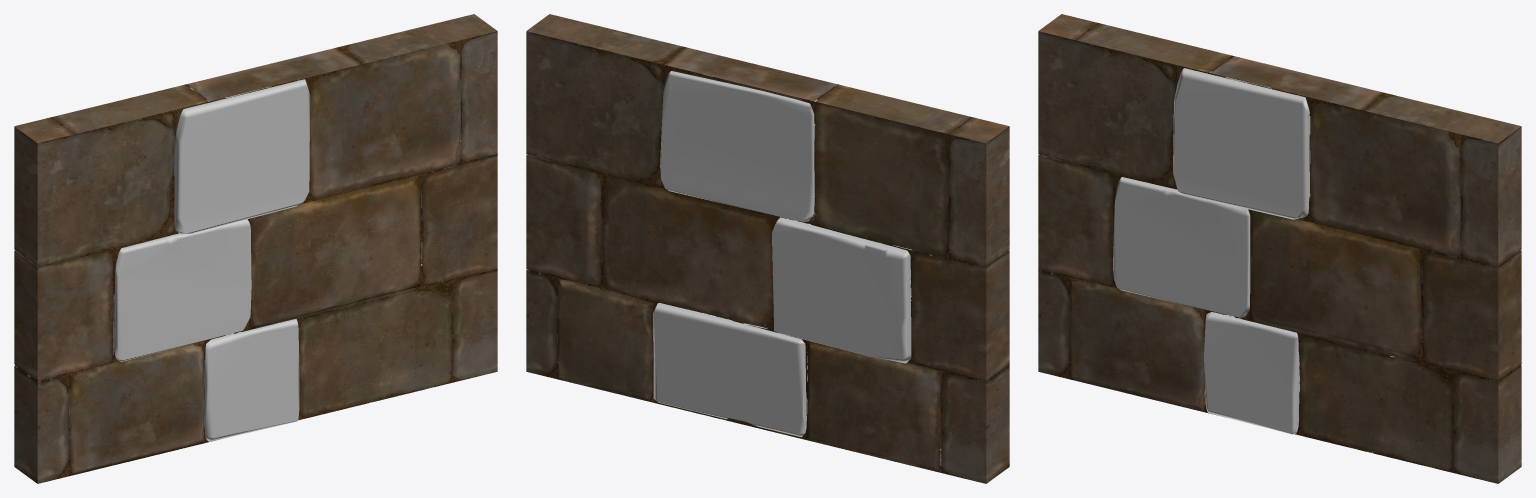
The picture shows the model from 3 angles, left to right: view 1: azimuth 30°, elevation 25°; view 2: azimuth 150°, elevation 25°; view 3: azimuth 330°, elevation 25°; orthographic projection.
Parts seen in each view (by area): view 1: SM_Vault_Corner_Wall_01_LOD0; view 2: SM_Vault_Corner_Wall_01_LOD0; view 3: SM_Vault_Corner_Wall_01_LOD0.
Boxes of the visible parts, box(x1,y1,x2,y2) form: SM_Vault_Corner_Wall_01_LOD0: box(14, 14, 497, 483); SM_Vault_Corner_Wall_01_LOD0: box(526, 14, 1009, 483); SM_Vault_Corner_Wall_01_LOD0: box(1038, 14, 1521, 483).
Size of the model in its own units: 5.66 by 4 by 0.7047.
